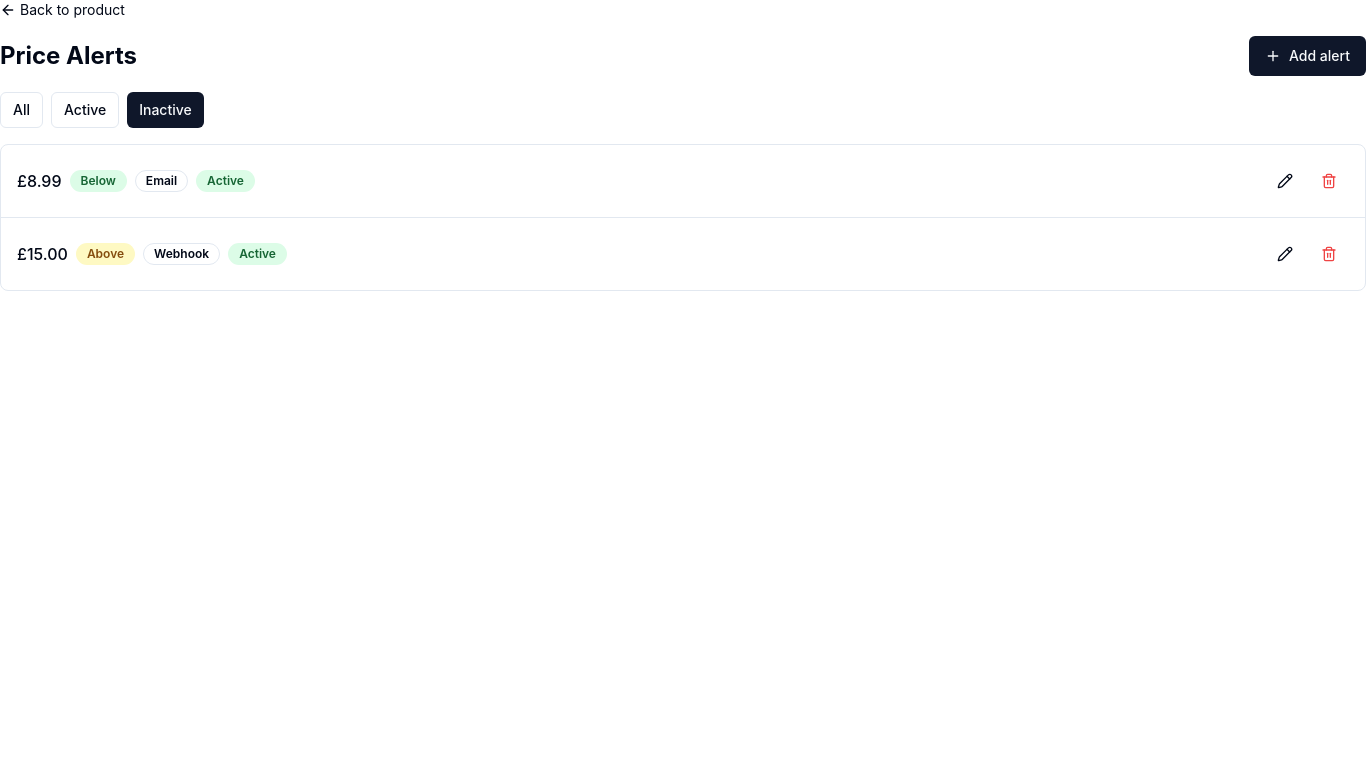
AlertManager › opens delete confirm dialog for an alert
What coordinates should you click on to do the following:
click the 2nd button named "delete"
I would click on:
 (1329, 181)
Its box is [1309,161,1349,201].
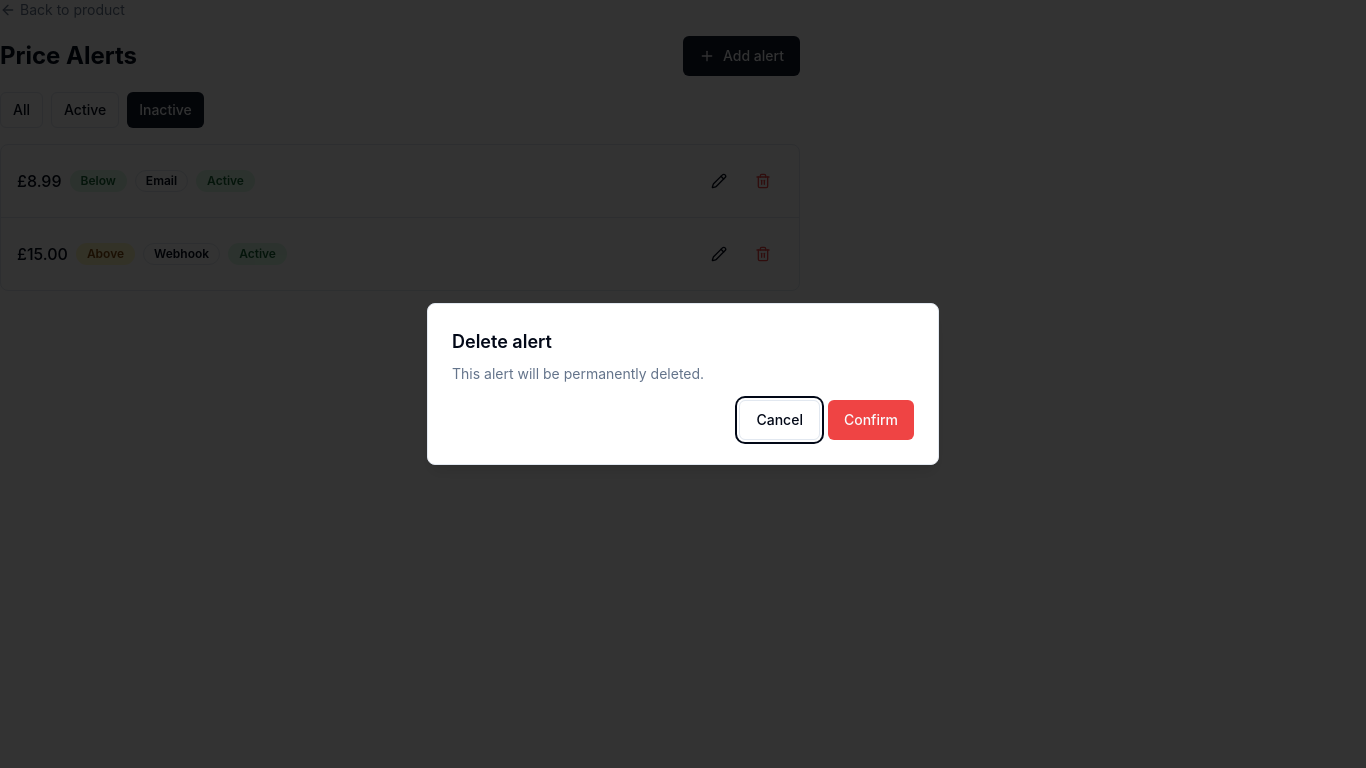
Check: the heading "Delete alert" is shown, box [452,331,552,352]
